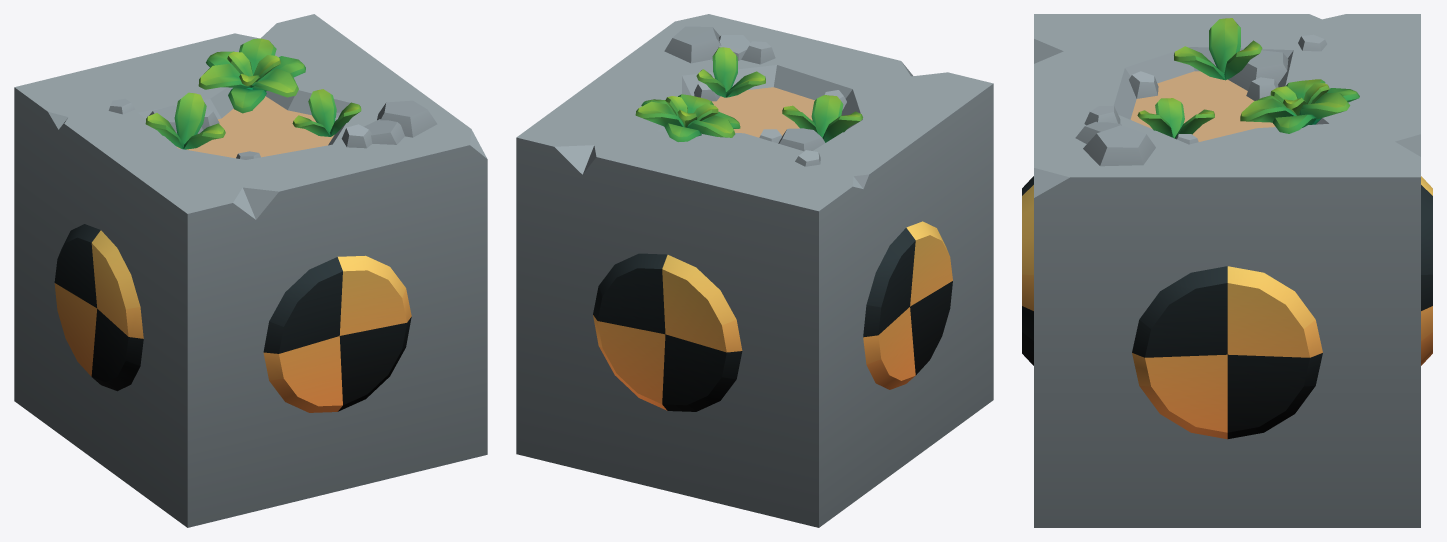
Rendered from block_C.gltf.glb.
3 views of the same model, side by side, from view 1: azimuth 30°, elevation 25°; view 2: azimuth 150°, elevation 25°; view 3: azimuth 270°, elevation 25° (orthographic). The views are drawn at different scales.
Visible parts, largest first — view 1: block_C; view 2: block_C; view 3: block_C.
Part boxes in pixels (<box>): block_C: <box>14,14,487,527</box>; block_C: <box>516,14,993,527</box>; block_C: <box>1022,14,1432,527</box>.
Size of the model in its own units: 2.13 by 2.15 by 2.13.
Materials: 1 (1 with a texture image).
